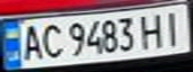3: (115, 15, 139, 52)
4: (84, 17, 106, 55)
8: (100, 16, 121, 54)
9: (63, 19, 87, 57)
A: (15, 23, 45, 62)
C: (36, 20, 66, 60)
H: (136, 10, 169, 49)
I: (157, 8, 187, 47)
